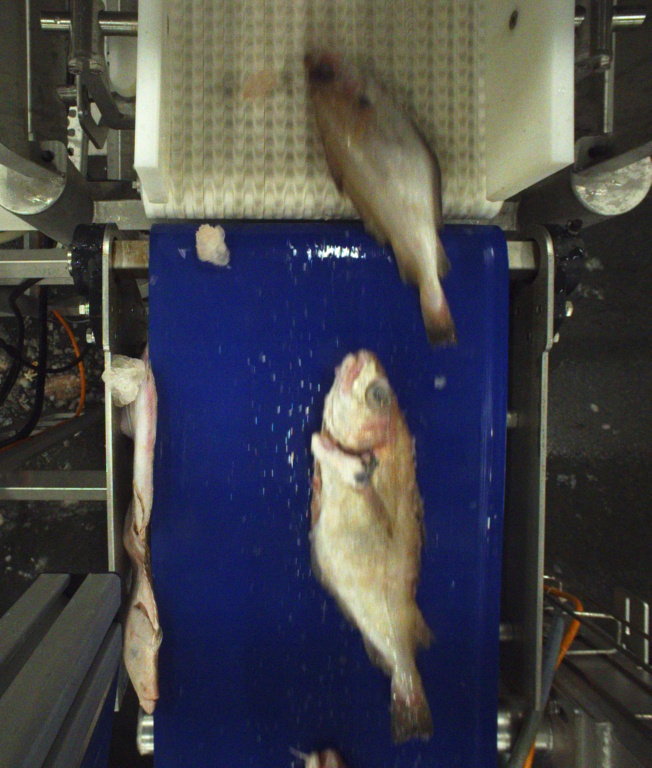BIB: (311, 350, 436, 743)
